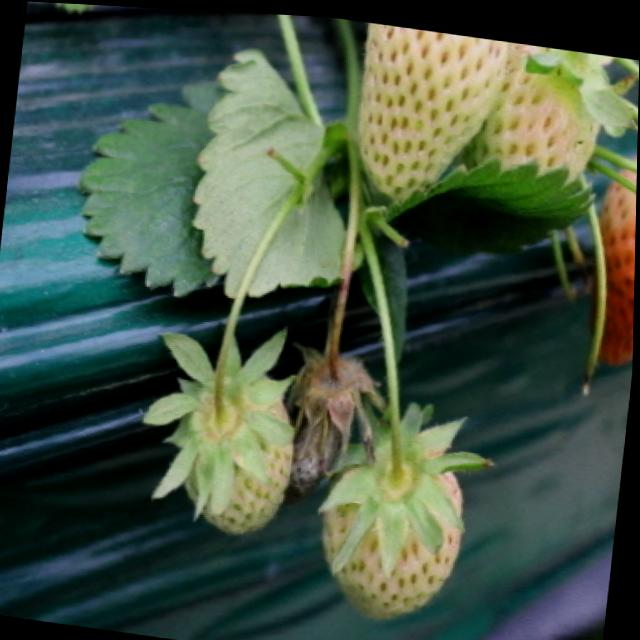Gray Mold: (286, 336, 380, 500)
